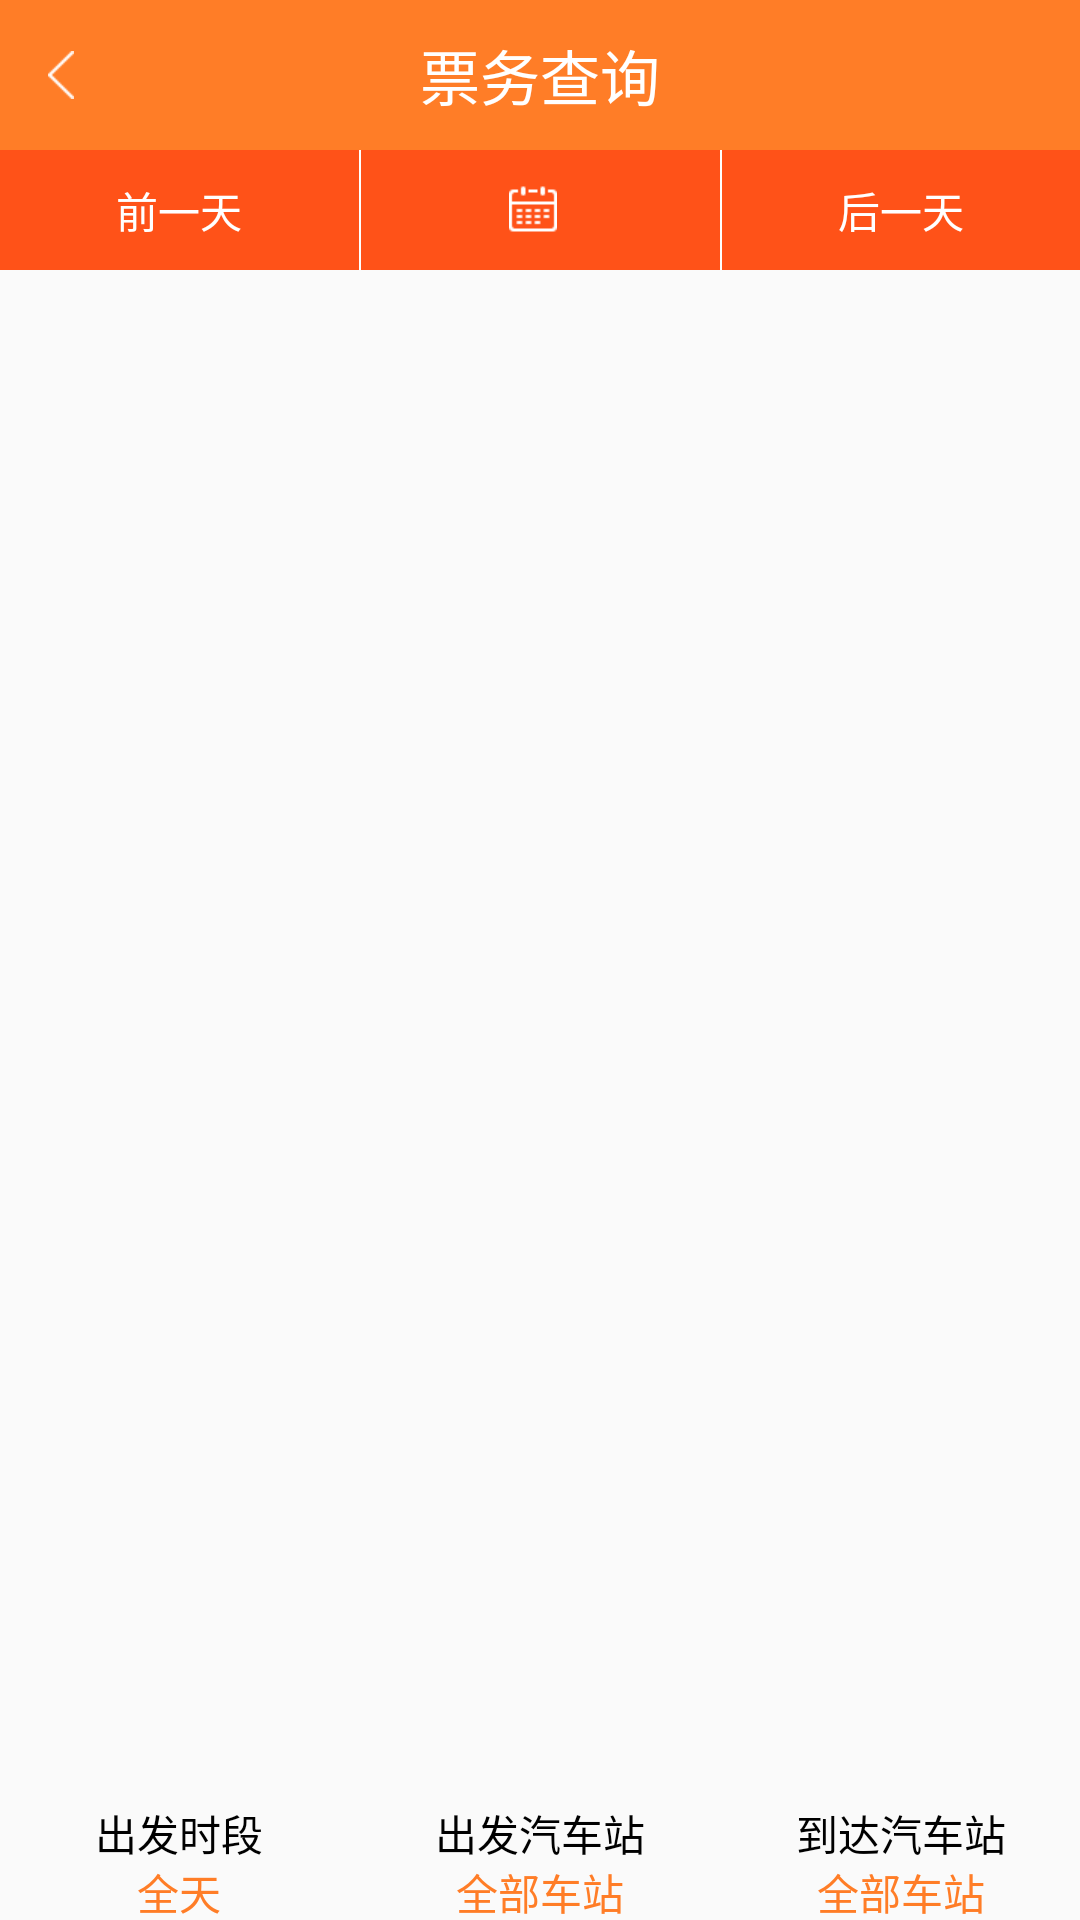

Icons on this 1080px x 1920px Android screen, each with the point to tap as [x,y]:
home calendar: [533,209]
